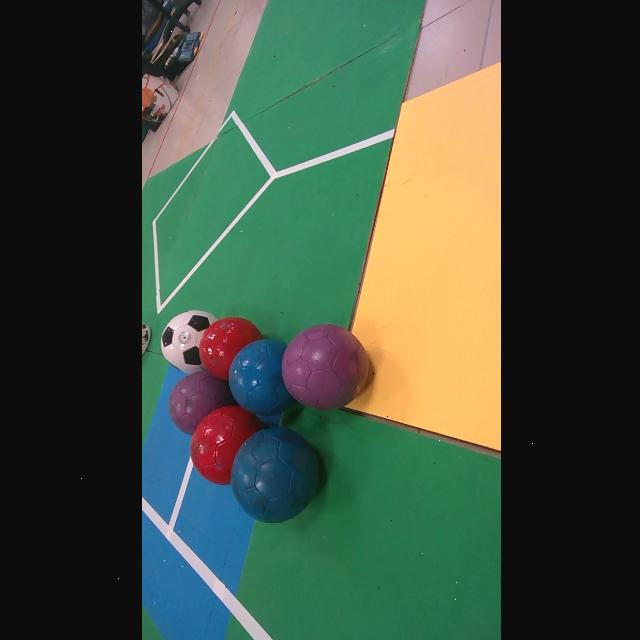B: (229, 427, 318, 523), (226, 339, 294, 415)
P: (281, 325, 367, 410), (166, 371, 235, 435)
R: (188, 406, 261, 484), (198, 317, 260, 380)
